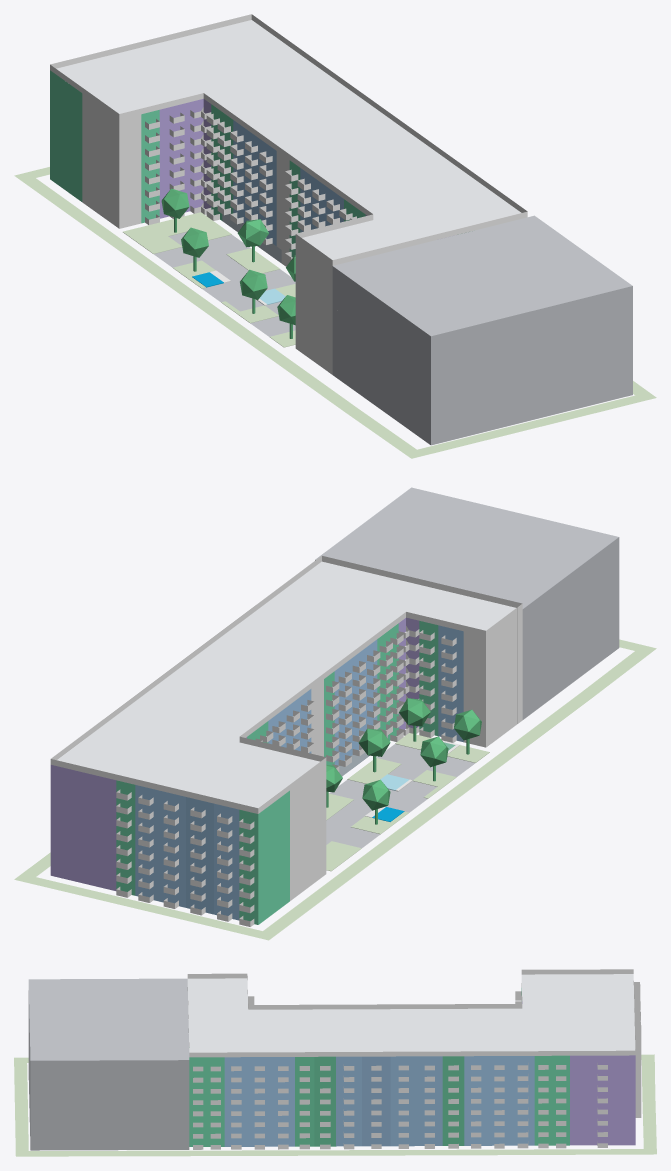
The model's file is solace.glb.
The picture shows the model from 3 angles, top to bottom: view 1: azimuth 30°, elevation 25°; view 2: azimuth 150°, elevation 25°; view 3: azimuth 270°, elevation 25°; orthographic projection. The views are drawn at different scales.
Bounding box in the file's own units: 56.54 × 24.38 × 150.
